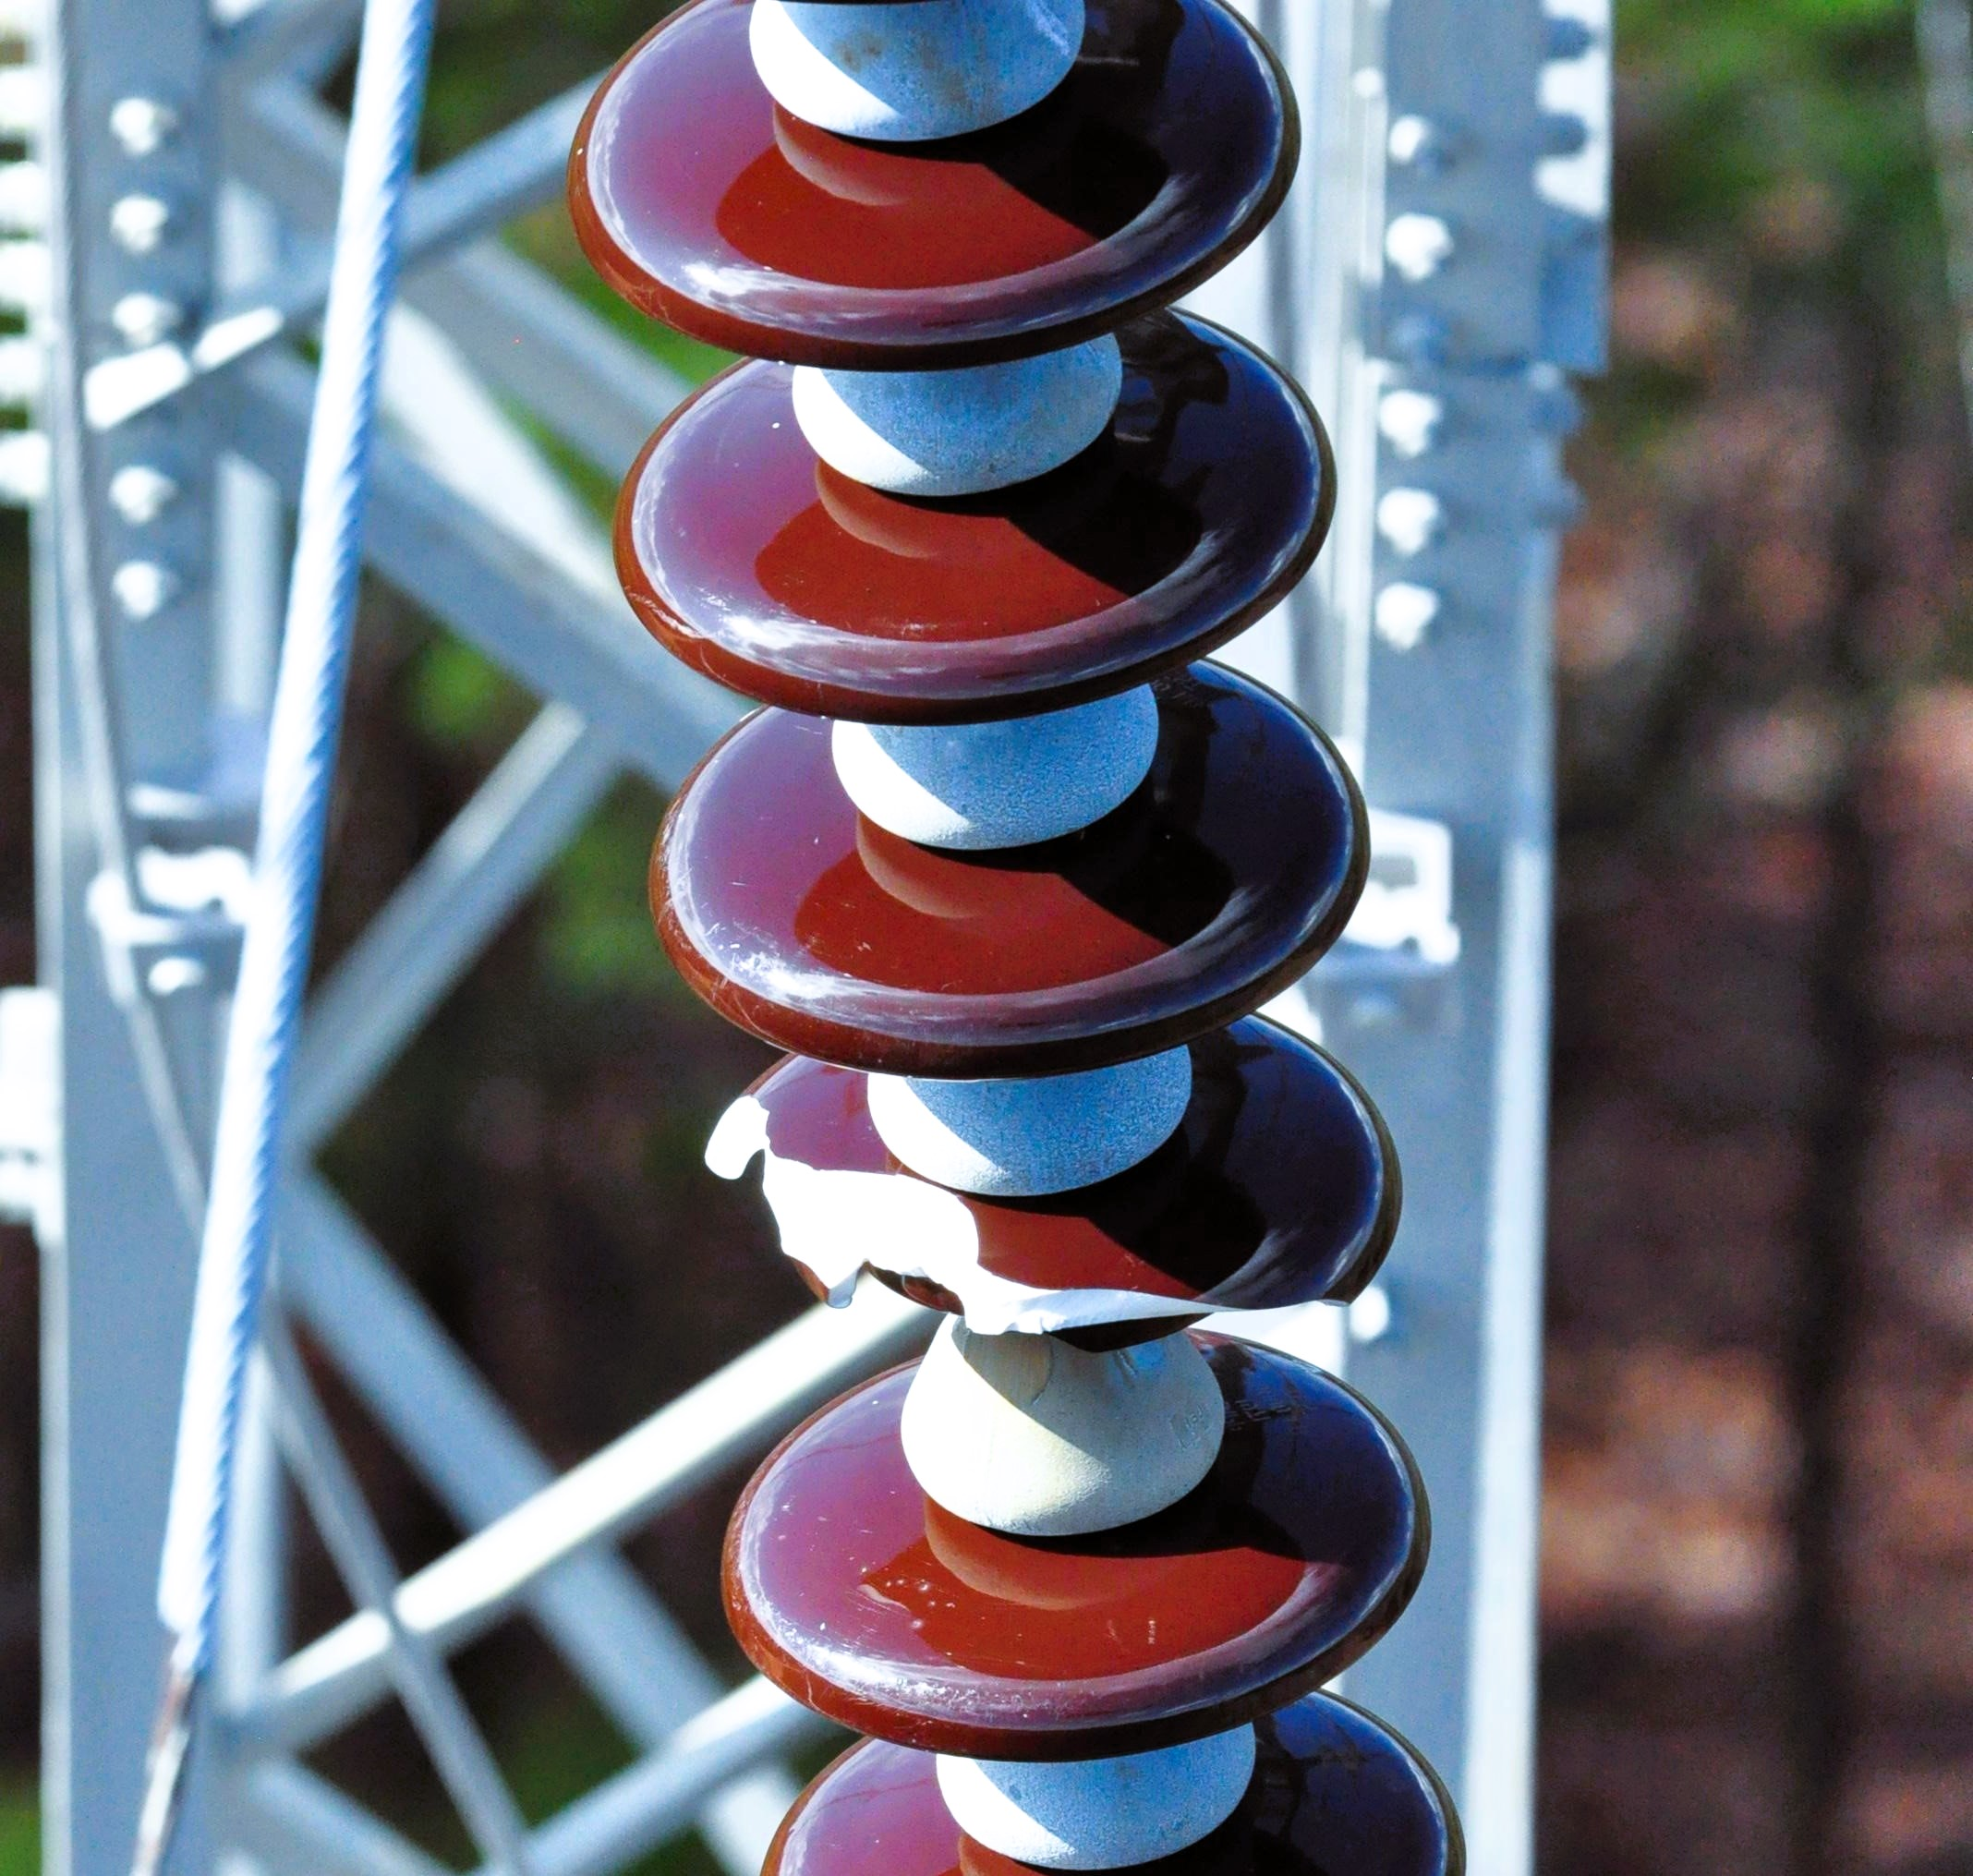insulator breakage: (669, 1001, 1413, 1365)
